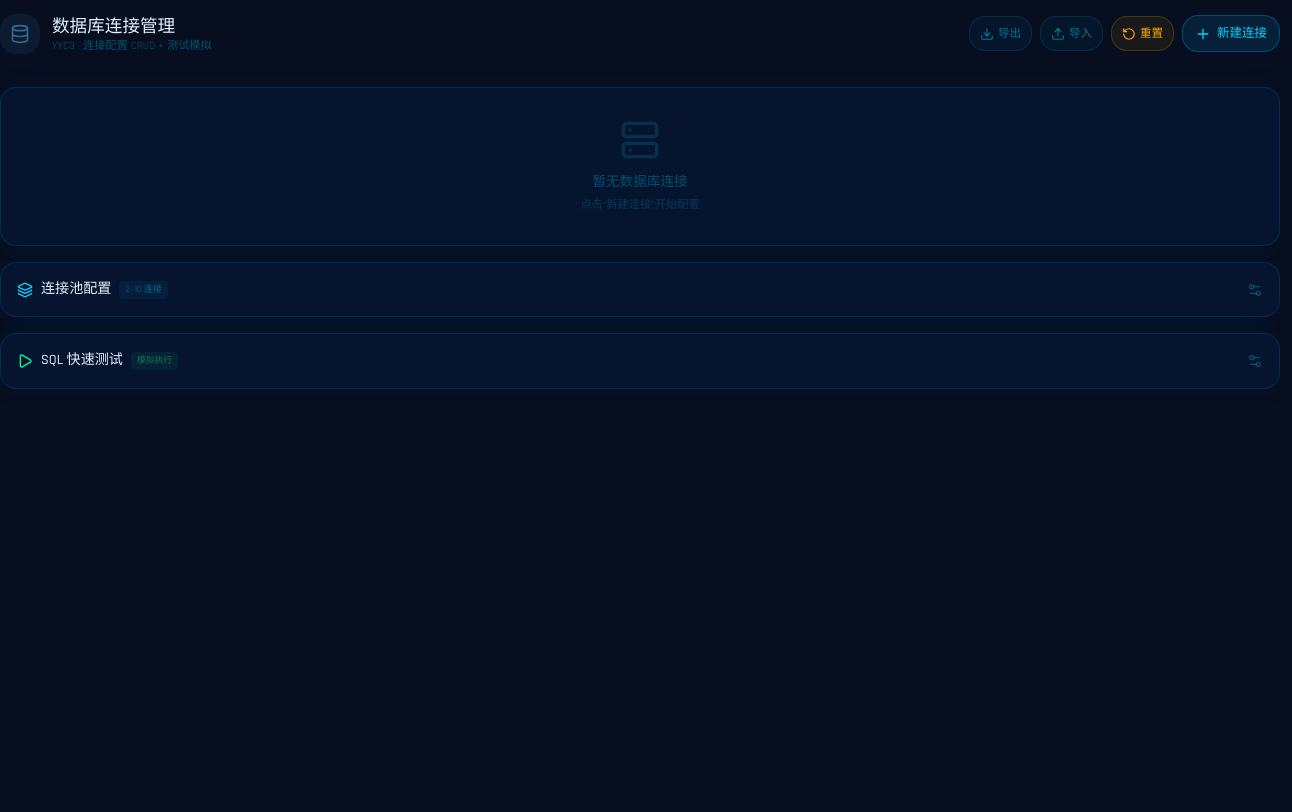
it: DatabaseConnectionPanel › 新建连接 › creates a new connection
Click the button with test id "db-new-connection-btn" at coordinates (1231, 34), box 1182,15 -> 1280,52
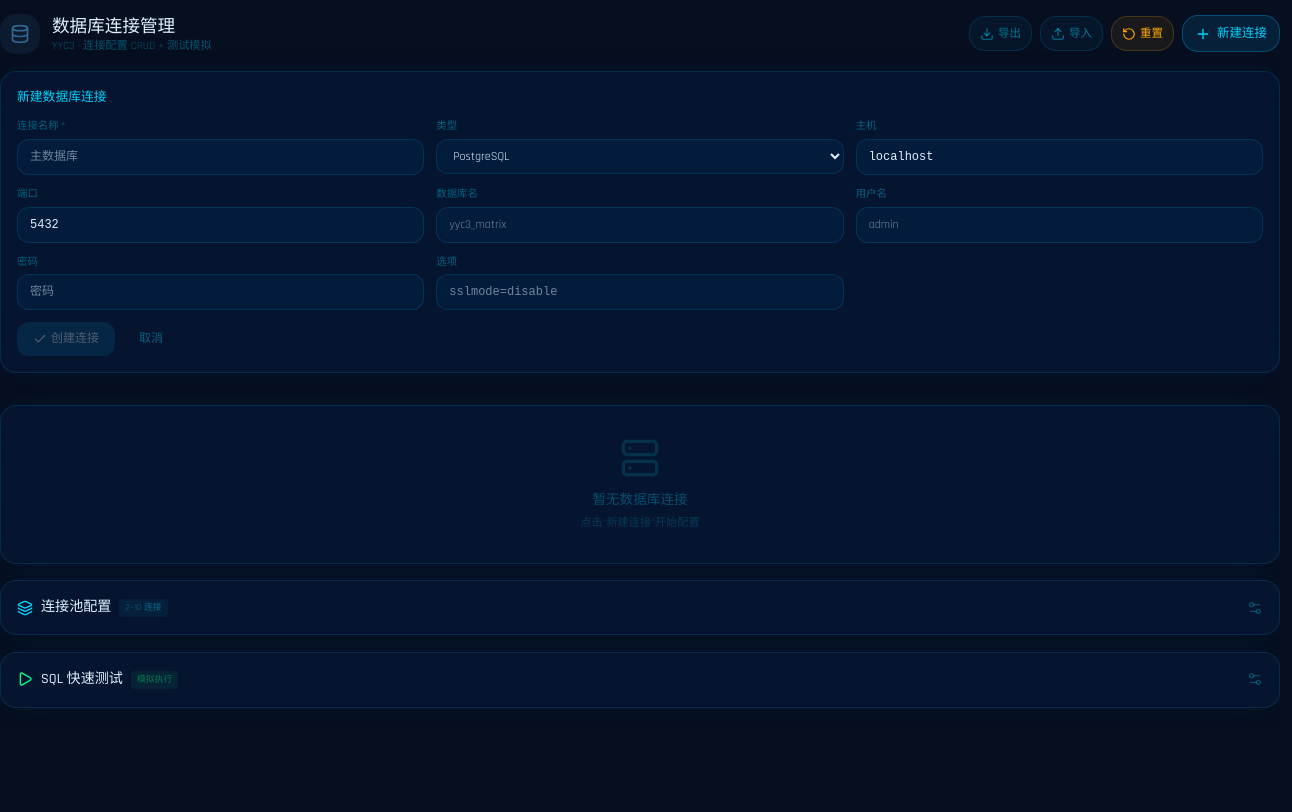
Type "My Test DB" into the field with placeholder "主数据库" at coordinates (221, 157), box 17,139 -> 424,175
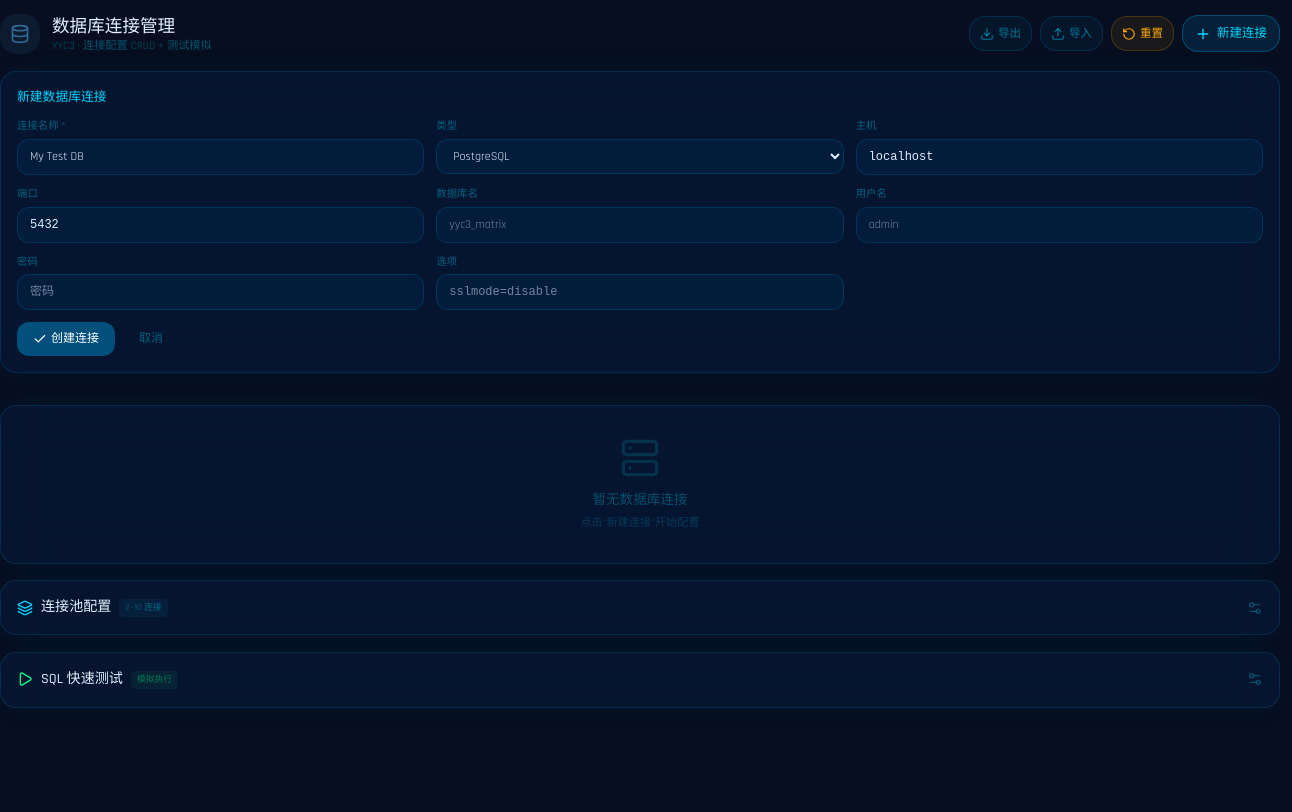
Click the button "创建连接" at coordinates (66, 339), box 17,322 -> 115,356
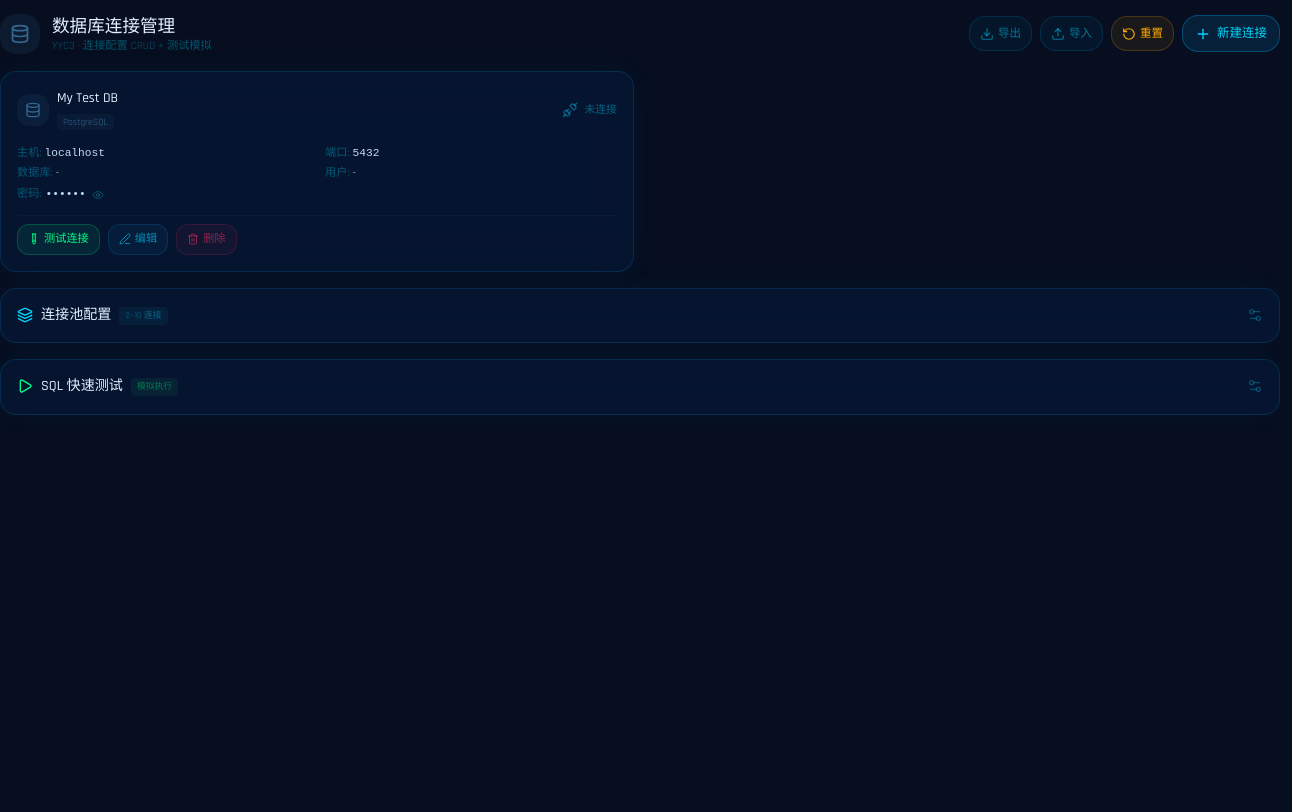
Check: the heading "My Test DB" is shown, box 57,88 -> 118,109
